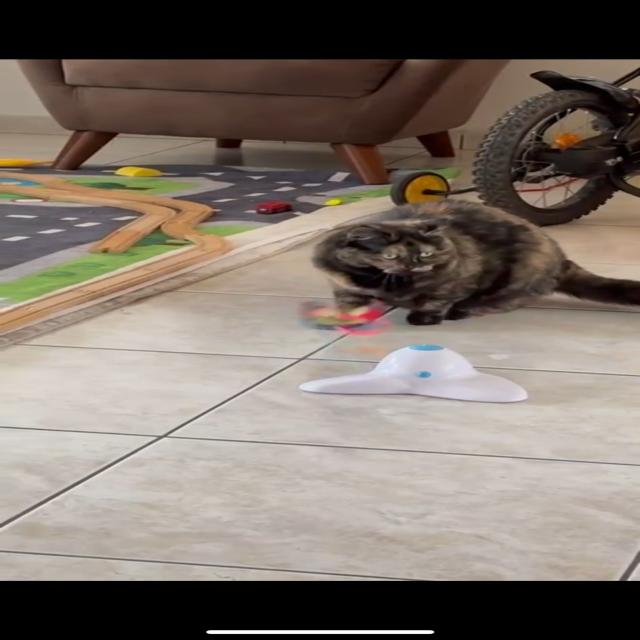authorized: (310, 198, 638, 326)
